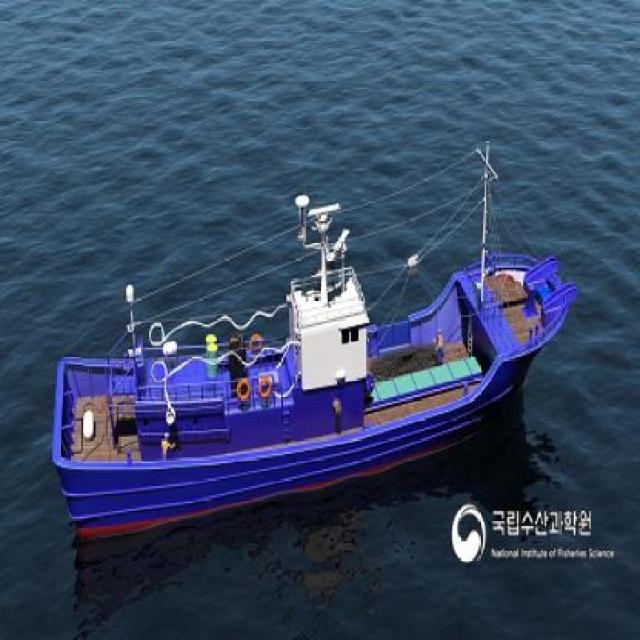fish-b: (42, 132, 582, 552)
